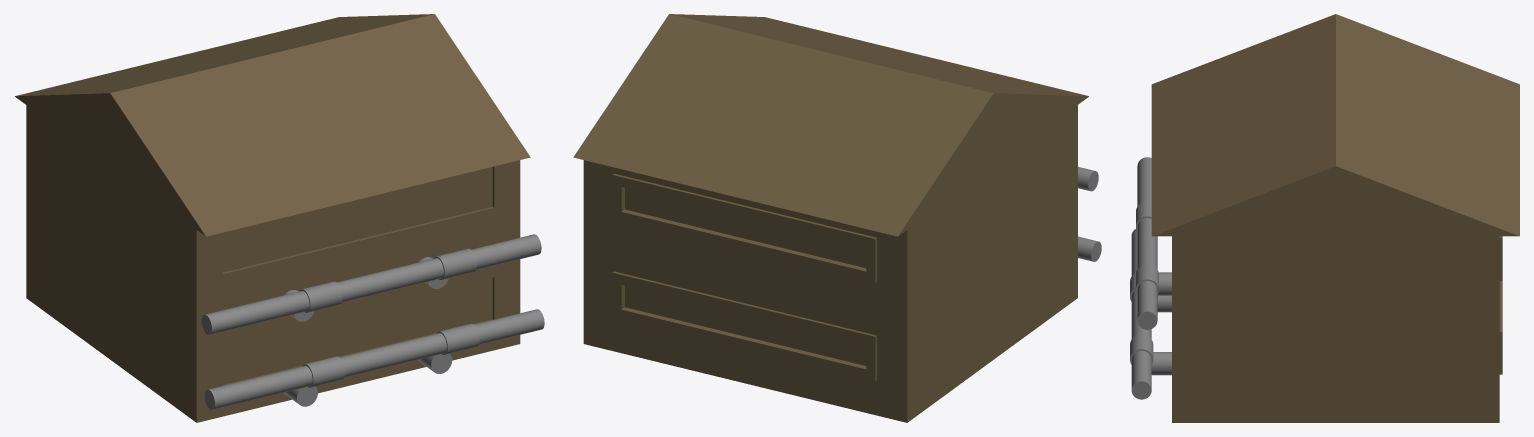
3 views of the same model, side by side, from view 1: azimuth 30°, elevation 25°; view 2: azimuth 150°, elevation 25°; view 3: azimuth 270°, elevation 25° (orthographic). The views are drawn at different scales.
Parts seen in each view (by area): view 1: walls, pitched_roof, rail.001, rail, collar.001, collar.003, collar.004, collar.002; view 2: walls, pitched_roof, rail; view 3: pitched_roof, walls, rail.001, rail, support.002, collar.002, collar.004.
Part boxes in pixels (x1,y1,x2,y2): walls: (26,105,520,422); pitched_roof: (15,14,530,236); rail.001: (201,234,541,334); rail: (204,309,544,409); collar.001: (302,356,345,387); collar.003: (299,281,342,312); collar.004: (434,248,476,279); collar.002: (437,323,479,354); walls: (583,105,1077,422); pitched_roof: (573,14,1088,236); rail: (1078,236,1101,261); pitched_roof: (1151,14,1519,236); walls: (1172,236,1502,422); rail.001: (1137,157,1157,329); rail: (1131,229,1151,399); support.002: (1151,352,1171,375); collar.002: (1130,334,1153,364); collar.004: (1136,264,1158,294).
Bounding box in the file's own units: 0.5645 × 0.438 × 0.6025.
